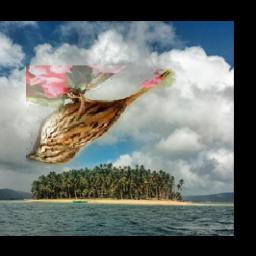Sparrow: (26, 66, 176, 168)
